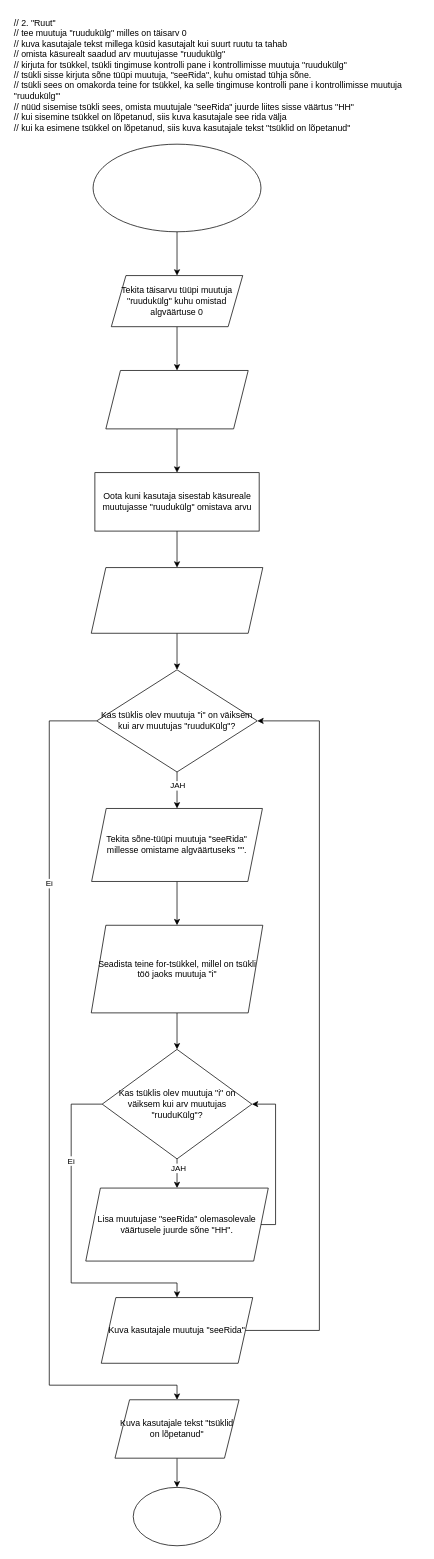
Image size: 434x1559. Some labels were removed from this diagram. Here are the shapes that lost their labels. From the top down, the centre of each, then its label:
pixel 176 187: Algus
pixel 176 399: Kuva kasutajale tekst "Kui suurt ruutu te tahate"
pixel 177 600: Seadista for-tsükkel, millel on tsükli töö jaoks muutuja "i"
pixel 176 1516: Lõpp
